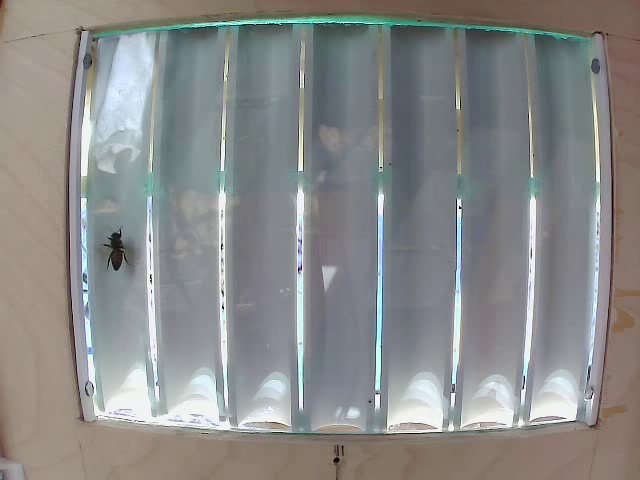bee: (97, 227, 142, 269)
